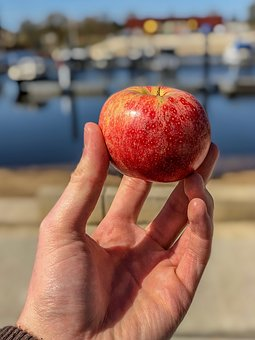palm: (71, 229, 180, 329)
